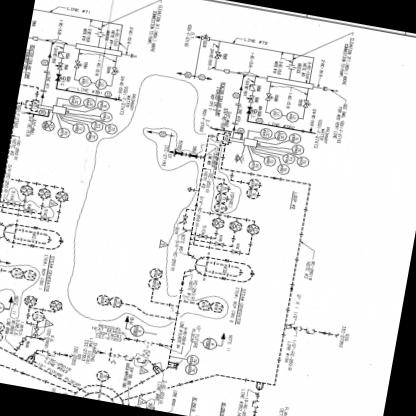LMI: (274, 163, 292, 175), (76, 74, 90, 88), (268, 106, 282, 120), (294, 156, 310, 168), (286, 132, 302, 144), (184, 354, 200, 366), (182, 364, 198, 376), (88, 119, 102, 132), (290, 143, 304, 156), (284, 110, 298, 123), (98, 110, 113, 122), (83, 130, 98, 142), (92, 78, 107, 90), (55, 126, 70, 138), (280, 152, 295, 164), (245, 159, 260, 171), (103, 122, 117, 134), (95, 99, 109, 111), (80, 96, 94, 108), (70, 122, 84, 134), (66, 94, 80, 106), (272, 130, 286, 142), (262, 155, 276, 167), (258, 126, 272, 138)
